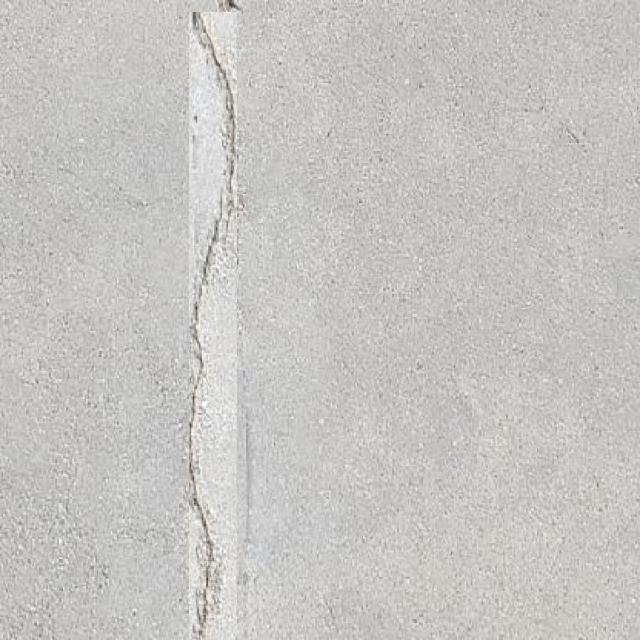vertical crack: (189, 12, 237, 640)
